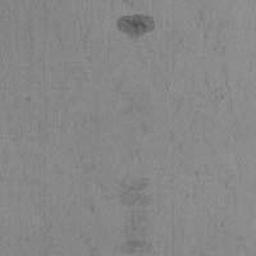Oil spot: (117, 14, 155, 38), (127, 240, 145, 253), (129, 183, 146, 190)
